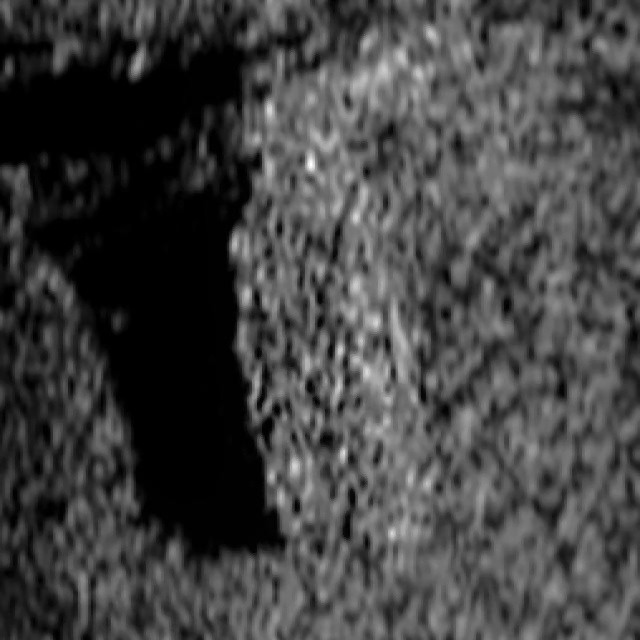Ship: (20, 52, 449, 584)
